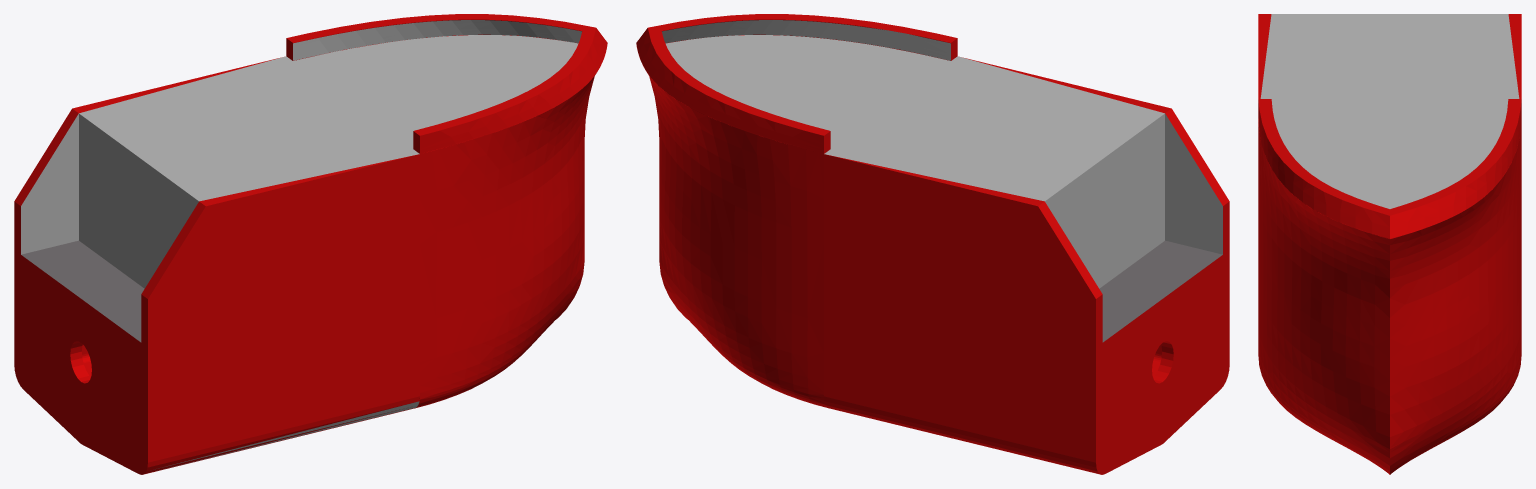
The model's file is bowSimple.dae.
The picture shows the model from 3 angles, left to right: view 1: azimuth 30°, elevation 25°; view 2: azimuth 150°, elevation 25°; view 3: azimuth 270°, elevation 25°; orthographic projection.
Visible parts, largest first — view 1: Bow_simples; view 2: Bow_simples; view 3: Bow_simples.
Part boxes in pixels (x1=…): Bow_simples: x1=14, y1=14, x2=607, y2=474; Bow_simples: x1=636, y1=14, x2=1229, y2=474; Bow_simples: x1=1258, y1=14, x2=1521, y2=474.
Bounding box in the file's own units: 90.98 × 40 × 48.
